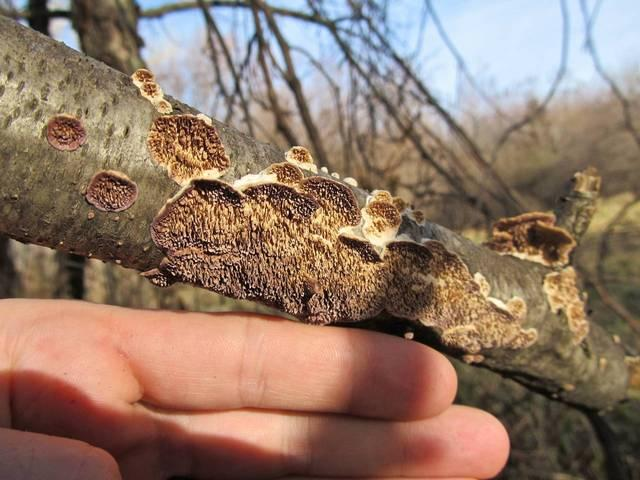poisonous_mushroom: (49, 57, 596, 330)
